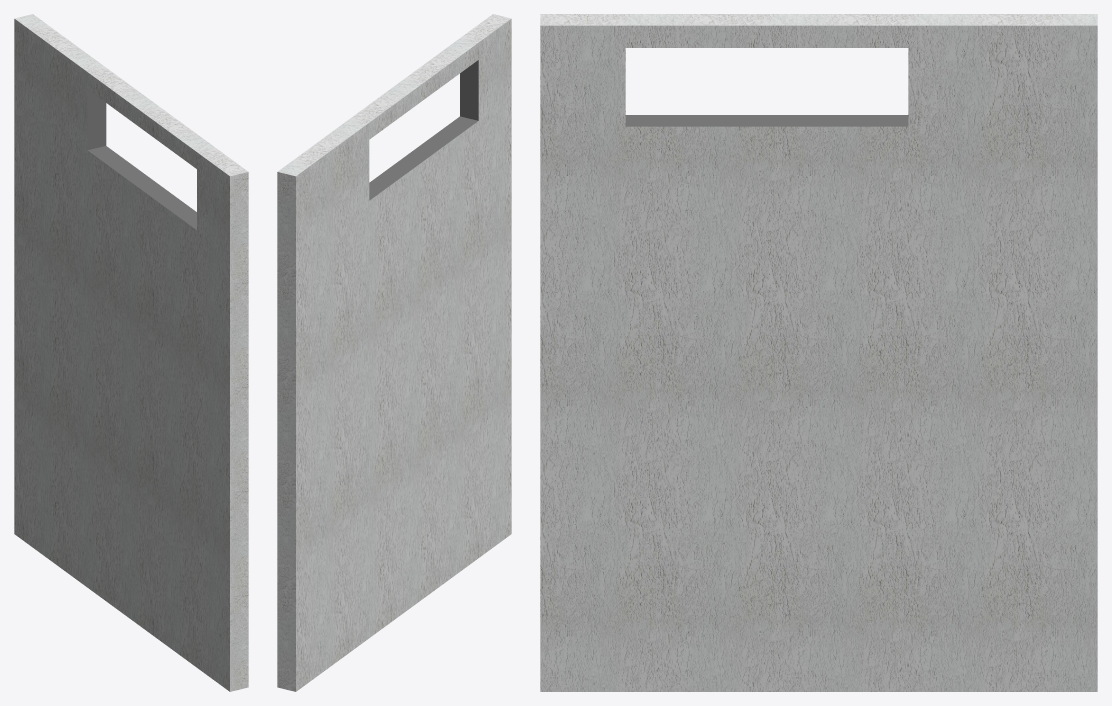
File: paredTI.obj
3 views of the same model, side by side, from view 1: azimuth 30°, elevation 25°; view 2: azimuth 150°, elevation 25°; view 3: azimuth 270°, elevation 25° (orthographic). The views are drawn at different scales.
Parts seen in each view (by area): view 1: paredTI:pCube36; view 2: paredTI:pCube36; view 3: paredTI:pCube36.
Part boxes in pixels (x1=…): paredTI:pCube36: x1=14, y1=14, x2=248, y2=691; paredTI:pCube36: x1=277, y1=14, x2=511, y2=691; paredTI:pCube36: x1=540, y1=14, x2=1097, y2=691.
Size of the model in its own units: 0.2128 by 5.64 by 4.28.
2 materials, 1 textured.
